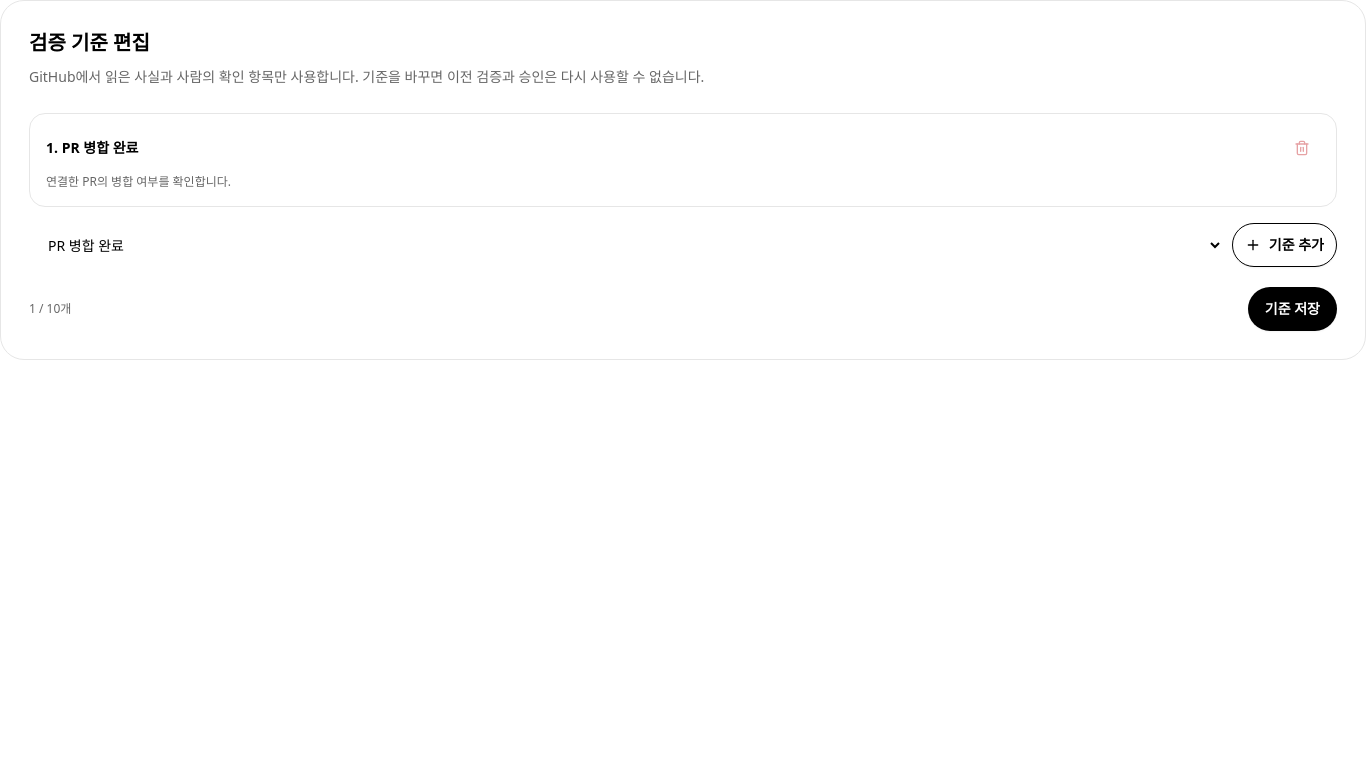
Scenario: ProofCriteriaEditor › adds a selected allowlisted criterion without arbitrary scripts or regex controls
The width and height of the screenshot is (1366, 768).
Select "사람이 확인할 항목" in the dropdown named "추가할 기준 유형": (626, 245) [29,223,1224,267]
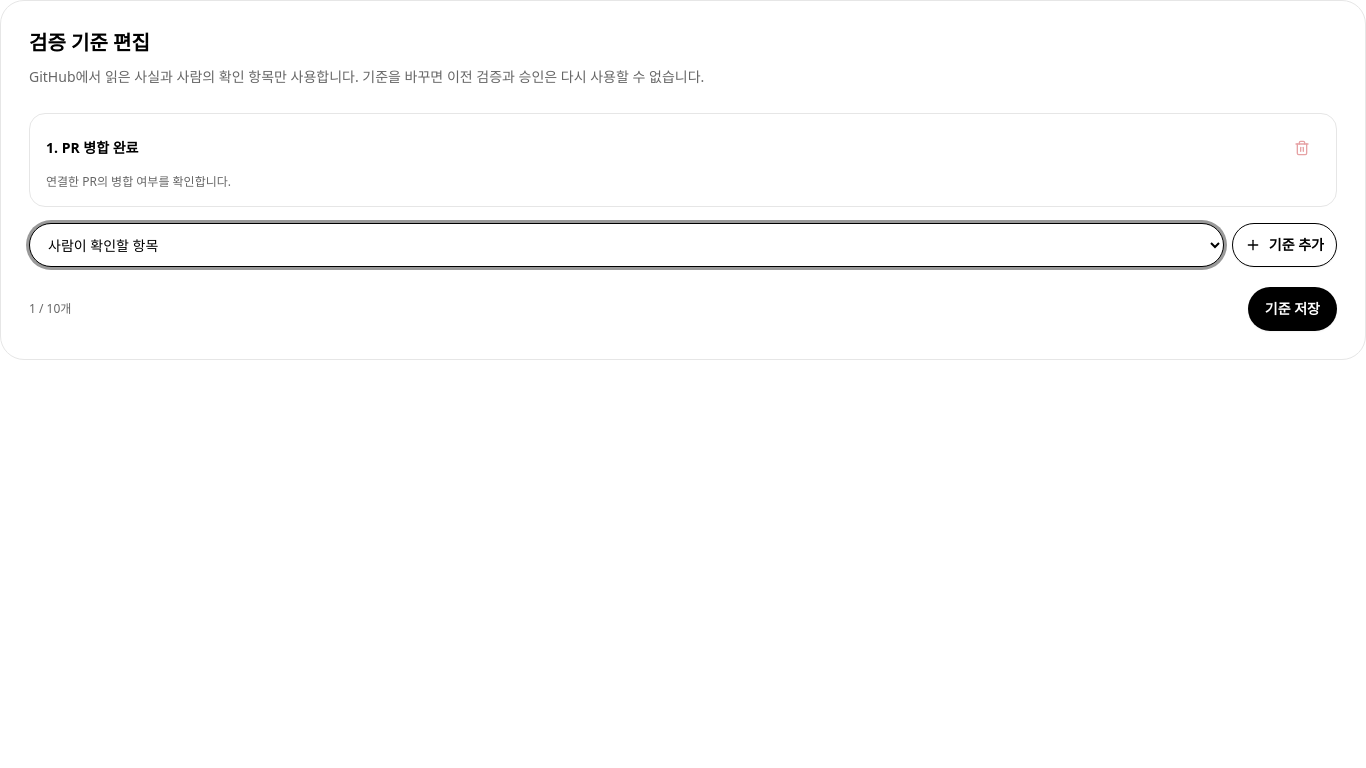
Click the button "기준 추가": (1284, 245) [1232,223,1337,267]
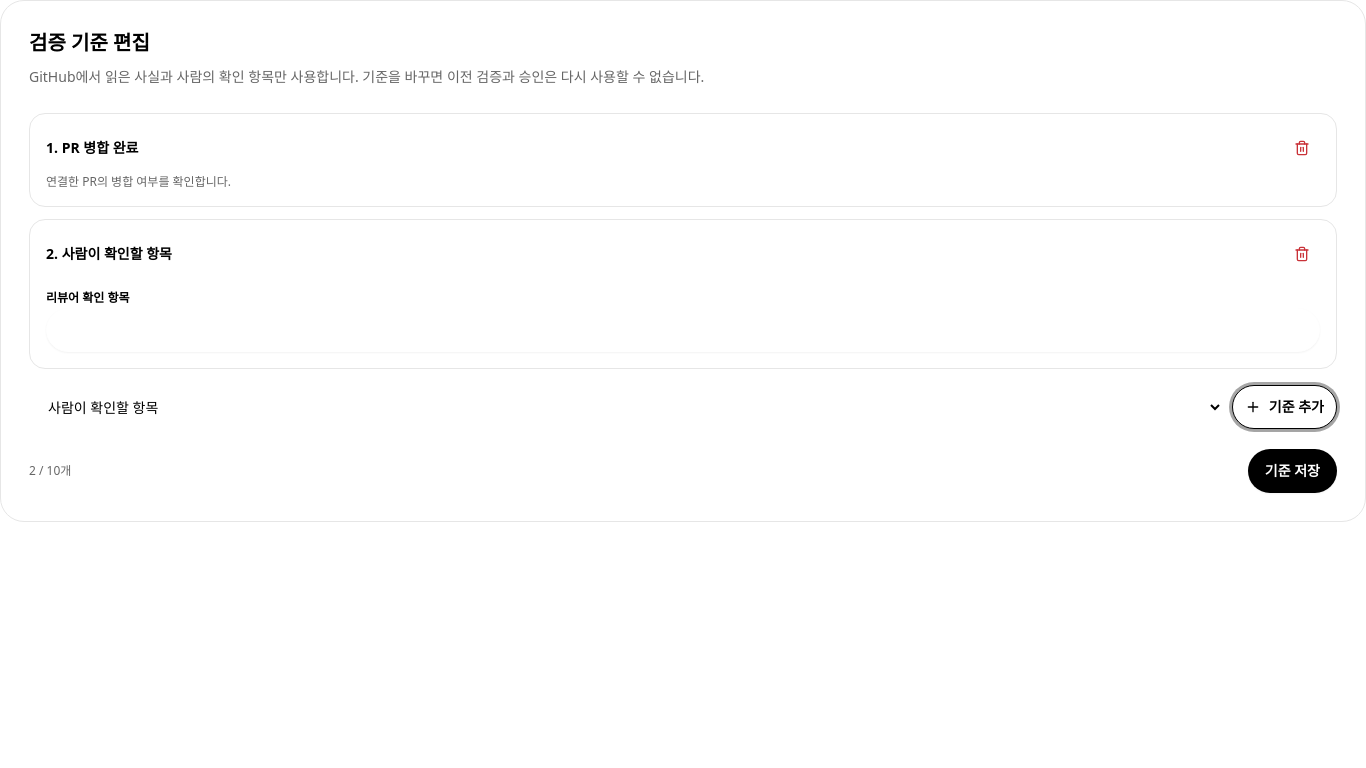
Expected: the text "2 / 10개" is shown, [29,463,71,479]
